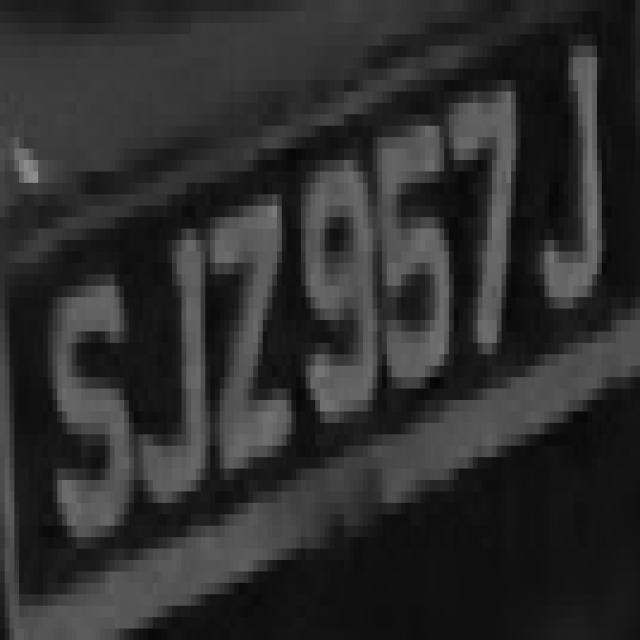5: (363, 91, 454, 423)
7: (425, 57, 525, 366)
9: (287, 126, 377, 446)
J: (129, 194, 215, 526), (525, 46, 621, 343)
S: (43, 252, 138, 548)
Z: (201, 148, 291, 503)
